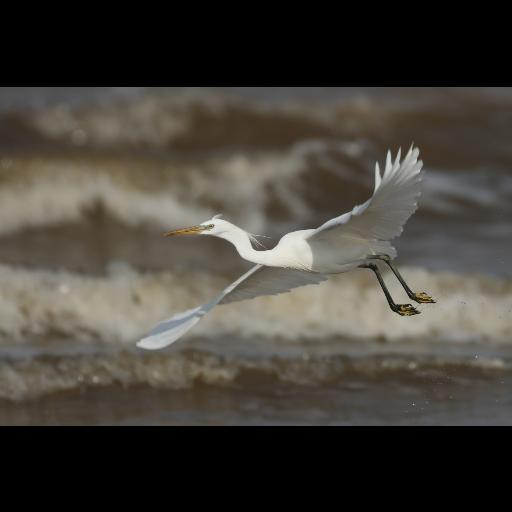chinese_egret: (135, 140, 437, 350)
